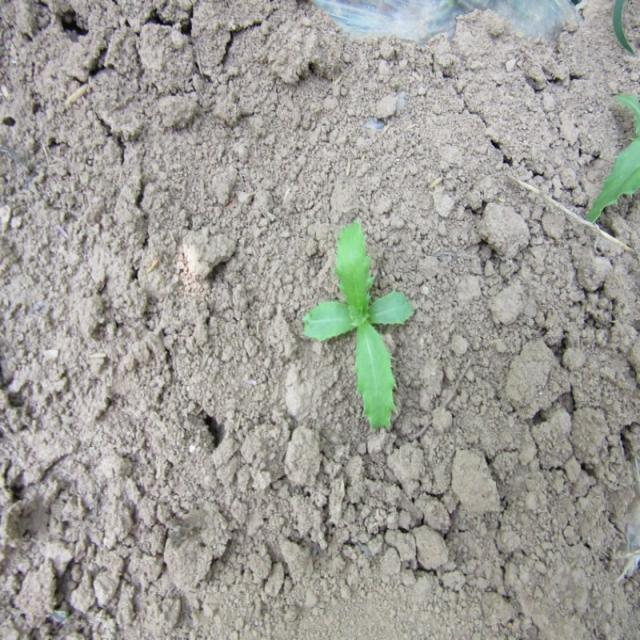field_thistle: (289, 199, 424, 464)
